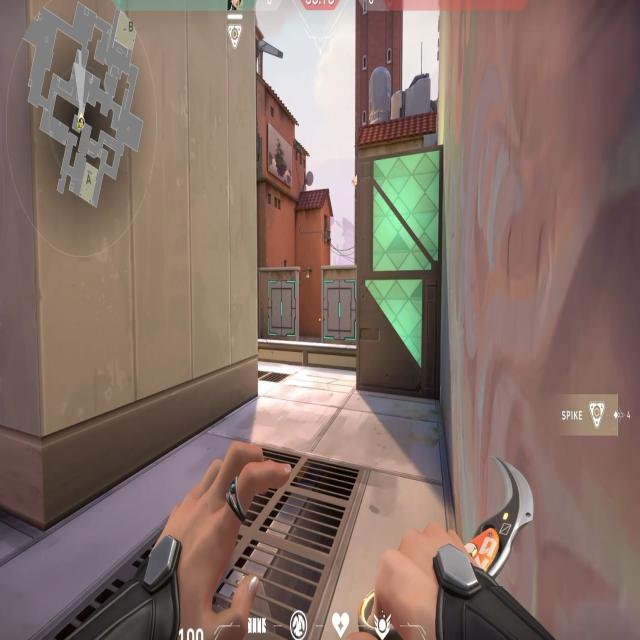Mid_Wall: (318, 266, 360, 350), (262, 262, 300, 347)
